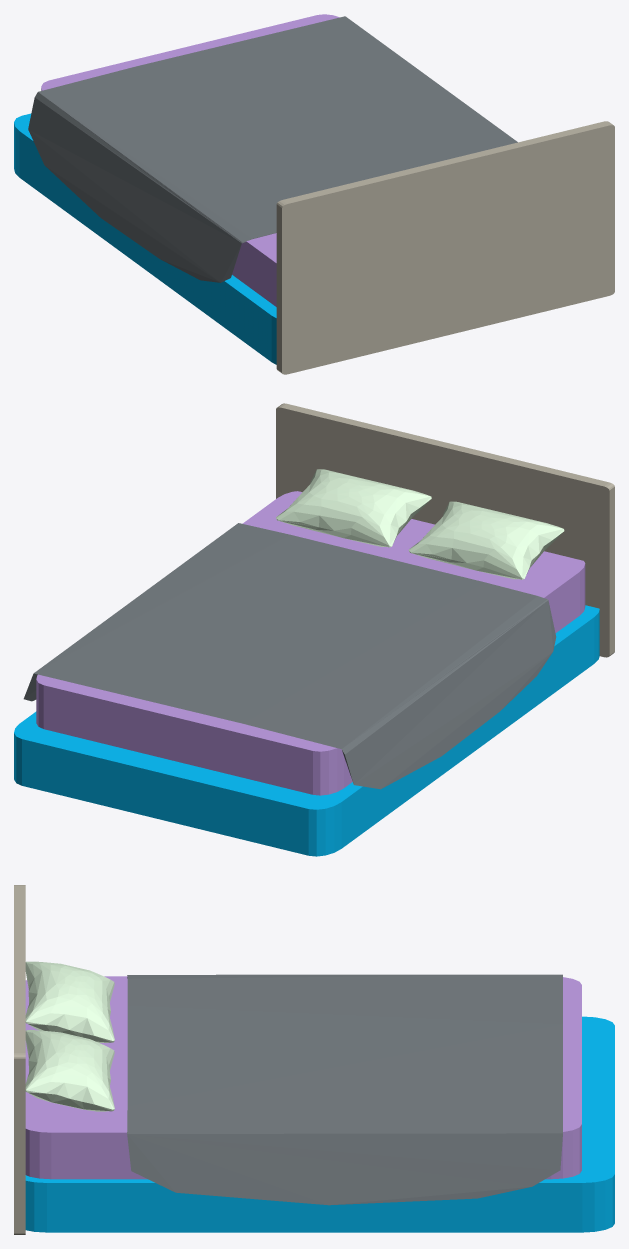
Rendered from Yatak.fbx.
The picture shows the model from 3 angles, top to bottom: view 1: azimuth 30°, elevation 25°; view 2: azimuth 150°, elevation 25°; view 3: azimuth 270°, elevation 25°; orthographic projection. The views are drawn at different scales.
Parts seen in each view (by area): view 1: Plane, Cube.002, Cube, Cube.001; view 2: Plane, Cube, Cube.002, Cube.001, Cube.003, Cube.004; view 3: Plane, Cube, Cube.001, Cube.004, Cube.003, Cube.002.
Part boxes in pixels (x1,y1,x2,y2): Plane: (28, 16, 517, 282); Cube.002: (276, 121, 614, 374); Cube: (14, 113, 276, 364); Cube.001: (41, 14, 339, 306); Plane: (23, 523, 556, 789); Cube: (14, 605, 599, 856); Cube.002: (276, 403, 614, 657); Cube.001: (36, 491, 585, 795); Cube.003: (408, 501, 564, 579); Cube.004: (276, 469, 431, 547); Plane: (127, 974, 562, 1205); Cube: (25, 1016, 614, 1232); Cube.001: (25, 976, 581, 1179); Cube.004: (25, 1030, 114, 1111); Cube.003: (25, 961, 114, 1042); Cube.002: (14, 885, 25, 1234).
Size of the model in its own units: 717 by 336 by 1011.
